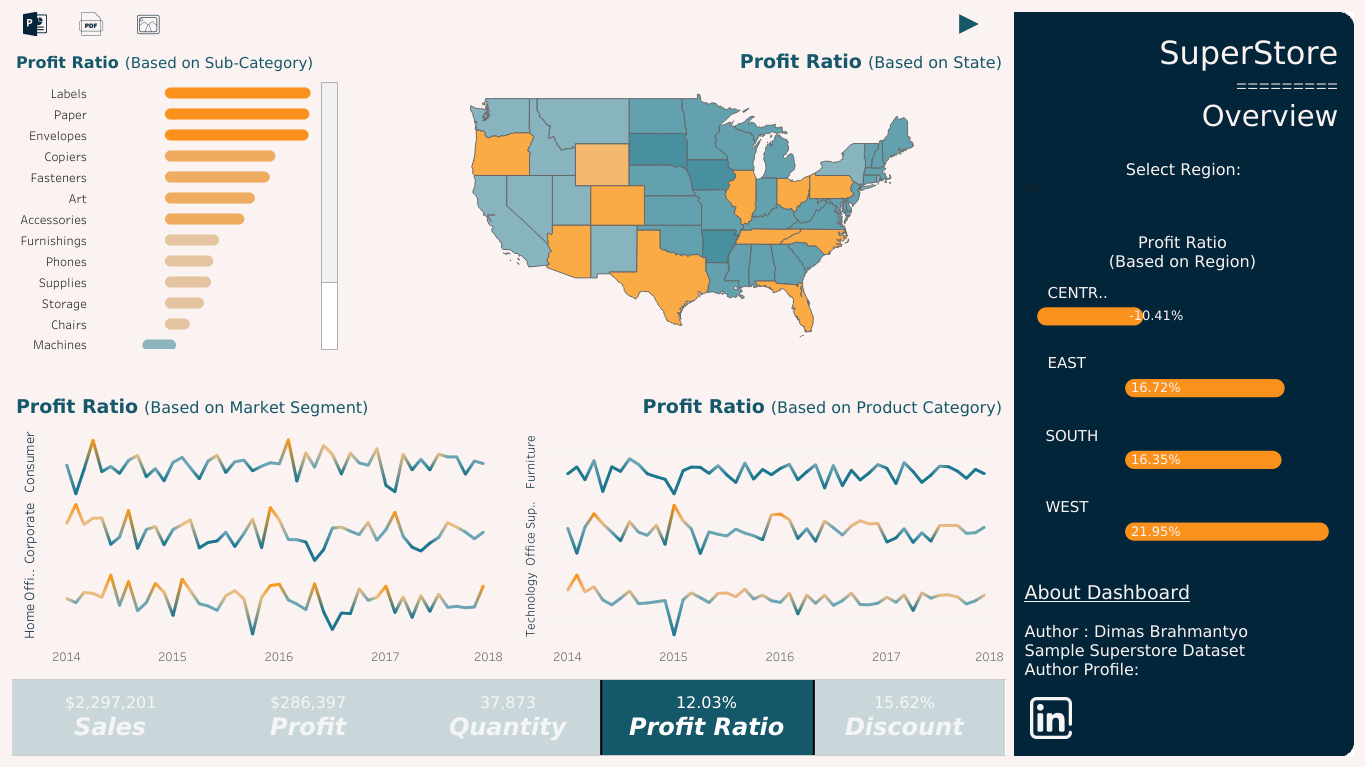

What the dashboard file says about the page in this screenshot:
{"tool":"tableau","page":{"name":"Dashboard 1 - Overview","canvas":[1366,768],"ordinal":0},"visuals":[{"type":"dashboard-object","box":[8,8,54,32]},{"type":"dashboard-object","box":[62,8,60,32]},{"type":"dashboard-object","box":[122,8,53,32]},{"type":"worksheet","title":"Next","mark":"Shape","rows":["Calculation_132293265469534221"],"box":[928,8,82,32]},{"type":"image","param":"Image/2.png","box":[1010,8,348,752]},{"type":"text","box":[1025,21,316,125]},{"type":"worksheet","title":"Sub Category Chart","mark":"Line","rows":["Sub-Category"],"box":[8,40,334,313]},{"type":"worksheet","title":"Based on State Map Chart","mark":"Automatic","box":[374,40,636,313]},{"type":"filter","title":"Based on State Map Chart","param":"[federated.1u37z9d020ffhv1e04nla11qurtp].[a1. Select Region Set]","box":[1022,159,323,55]},{"type":"worksheet","title":"Region Button","mark":"Line","rows":["Region"],"box":[1023,227,319,340]},{"type":"text","box":[1045,278,66,30]},{"type":"text","box":[1045,348,100,30]},{"type":"worksheet","title":"Market Segment Chart","mark":"Automatic","rows":["Segment","Calculation_1180506078081609731"],"cols":["Order Date"],"box":[8,385,501,290]},{"type":"worksheet","title":"Product Category Chart","mark":"Automatic","rows":["Category","Calculation_1180506078081609731"],"cols":["Order Date"],"box":[509,385,501,290]},{"type":"text","box":[1043,421,100,30]},{"type":"text","box":[1043,492,100,30]},{"type":"text","box":[1022,577,272,106]},{"type":"worksheet","title":"Field Button","mark":"Shape","box":[8,675,1002,85]},{"type":"worksheet","title":"LinkedIn","mark":"Shape","rows":["Calculation_1125055507973922816"],"box":[1022,691,57,53]}]}

Visuals, with their boxes in screenshot pixels (x1, y1, x2, y2), scaled from the page's 1366x768 canvas onto the 1365x767 screenshot:
dashboard-object: (8, 8, 62, 40)
dashboard-object: (62, 8, 122, 40)
dashboard-object: (122, 8, 175, 40)
"Next" worksheet (Shape marks): (927, 8, 1009, 40)
image: (1009, 8, 1357, 759)
text: (1024, 21, 1340, 146)
"Sub Category Chart" worksheet (Line marks): (8, 40, 342, 353)
"Based on State Map Chart" worksheet: (374, 40, 1009, 353)
"Based on State Map Chart" filter: (1021, 159, 1344, 214)
"Region Button" worksheet (Line marks): (1022, 227, 1341, 566)
text: (1044, 278, 1110, 308)
text: (1044, 348, 1144, 378)
"Market Segment Chart" worksheet: (8, 384, 509, 674)
"Product Category Chart" worksheet: (509, 384, 1009, 674)
text: (1042, 420, 1142, 450)
text: (1042, 491, 1142, 521)
text: (1021, 576, 1293, 682)
"Field Button" worksheet (Shape marks): (8, 674, 1009, 759)
"LinkedIn" worksheet (Shape marks): (1021, 690, 1078, 743)
